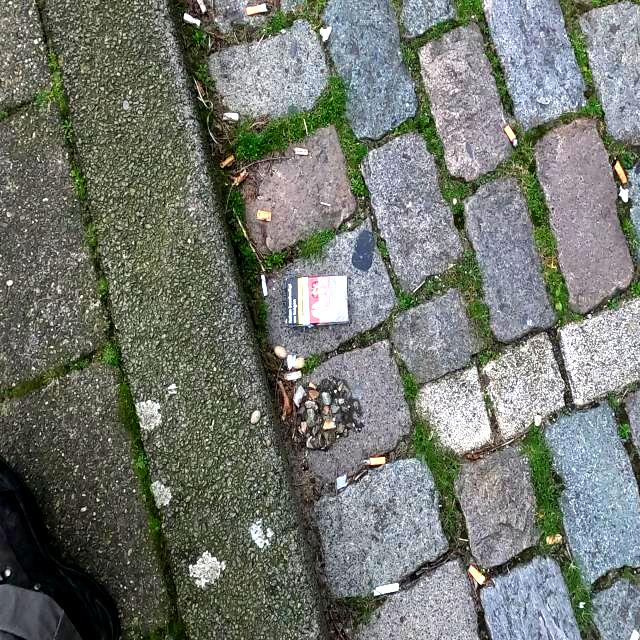Paper: (284, 274, 350, 328)
